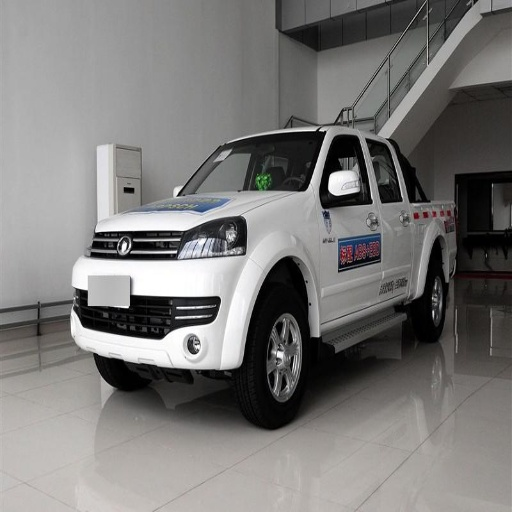front_bumper: (74, 225, 263, 369)
front_glass: (180, 136, 322, 194)
front_left_door: (323, 132, 385, 323)
trunk: (398, 201, 456, 293)
